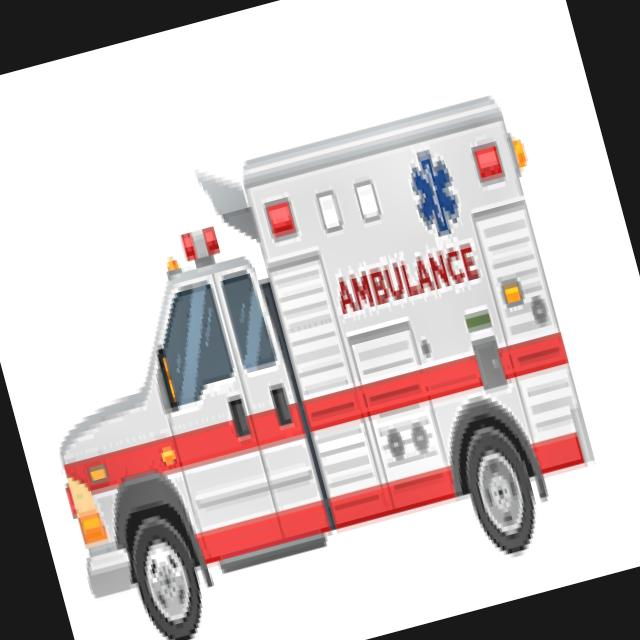Ambulance: (0, 93, 609, 640)
